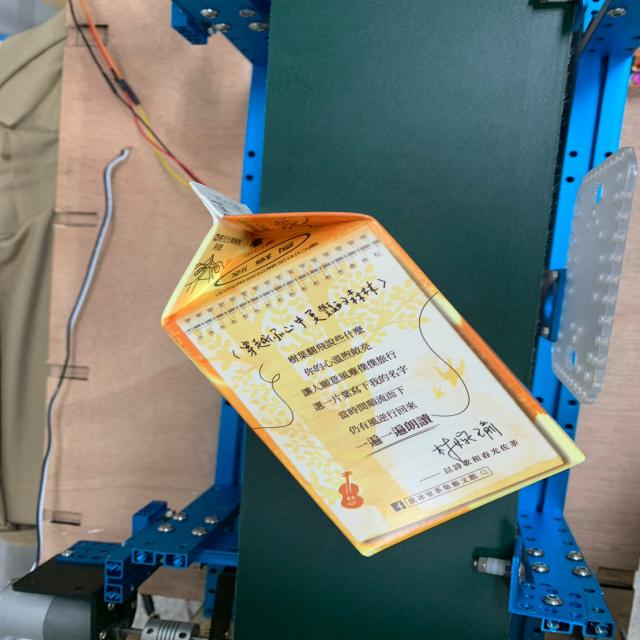non_white_jug: (136, 140, 614, 606)
